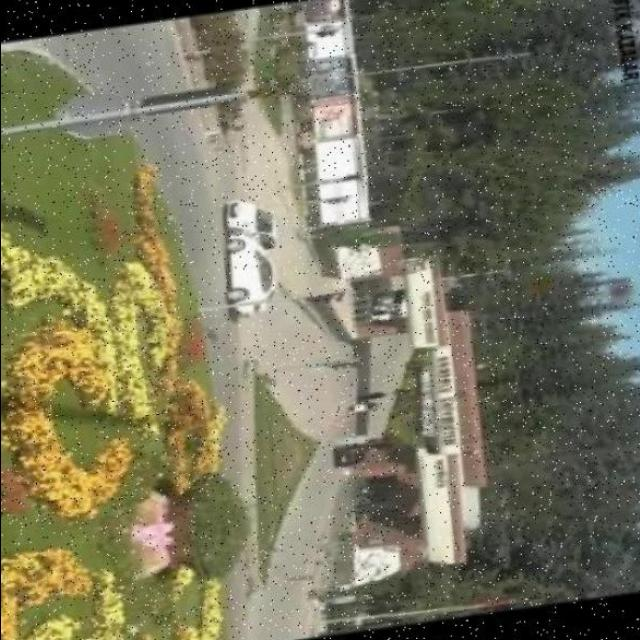accident: (213, 193, 294, 319)
